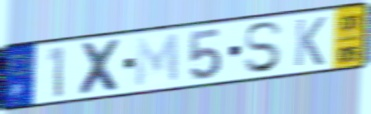1: (46, 43, 67, 99)
5: (188, 26, 224, 82)
K: (293, 15, 329, 68)
M: (134, 31, 182, 90)
S: (242, 19, 286, 76)
X: (76, 37, 124, 97)
